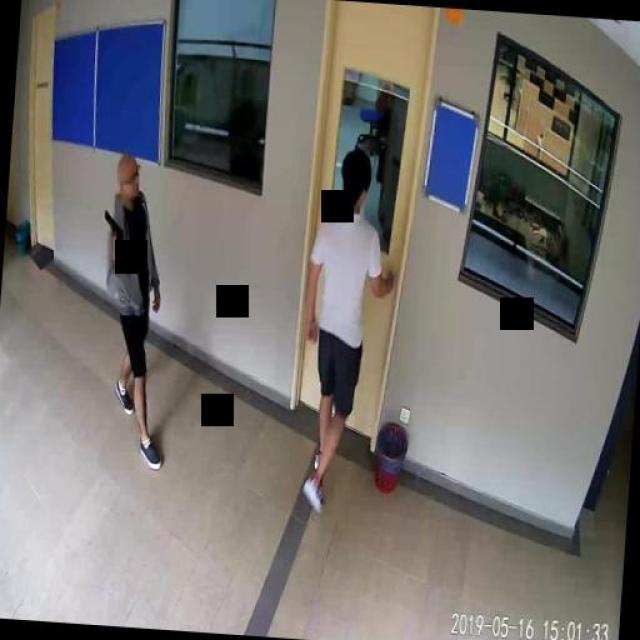gun: (100, 208, 124, 256)
